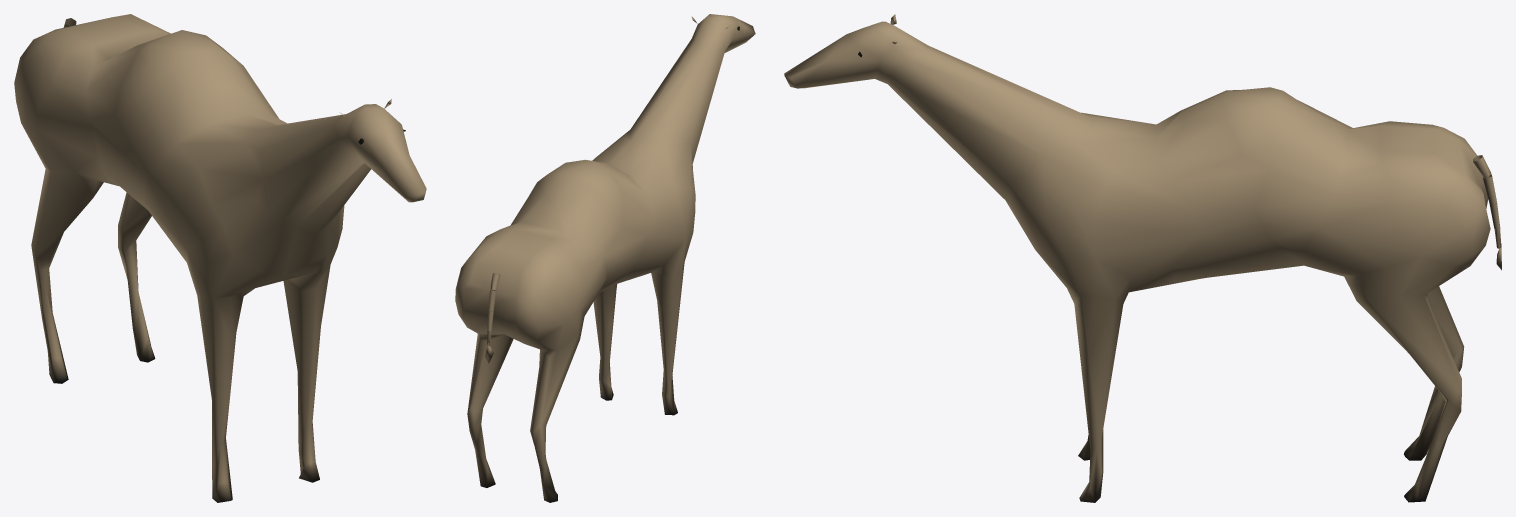
Rendered from kamel.glb.
3 renders of one model, left to right at view 1: azimuth 30°, elevation 25°; view 2: azimuth 150°, elevation 25°; view 3: azimuth 270°, elevation 25°, orthographic. The views are drawn at different scales.
Visible parts, largest first — view 1: lack; view 2: lack; view 3: lack.
Part boxes in pixels (x1,y1,x2,y2): lack: (14, 14, 426, 502); lack: (455, 14, 755, 502); lack: (784, 14, 1501, 502).
Bounding box in the file's own units: 0.8769 × 2.55 × 3.64.
